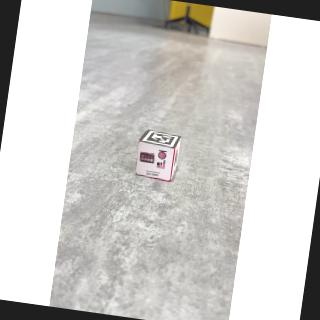Expired_Cosmetic: (136, 143, 176, 182)
